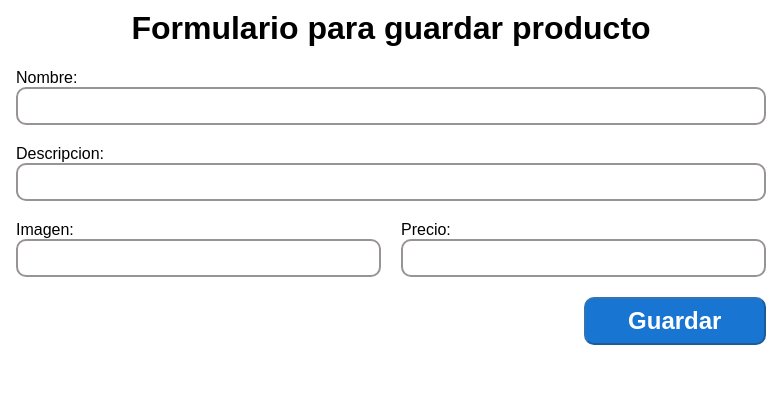
Test case: Home › should save product information
The image size is (783, 396).
Type "lata de merluzo" into the field labelled "Nombre:" at (391, 106), box [16,87,766,125]
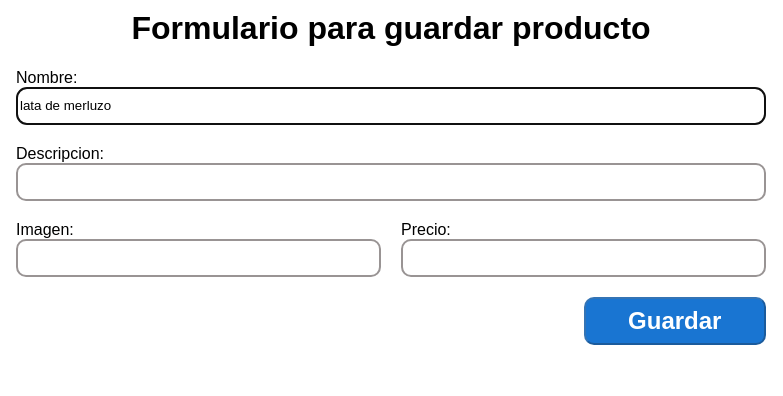
Type "descripcion" into the field labelled "Descripcion:" at (391, 182), box [16,163,766,201]
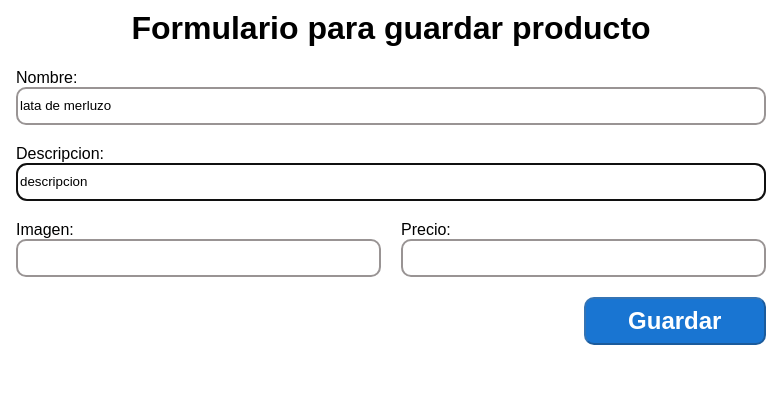
Type "www.lider.cl/catalogo/images/whiteLineIcon.svg" into the field labelled "Imagen:" at (198, 258), box [16,239,381,277]
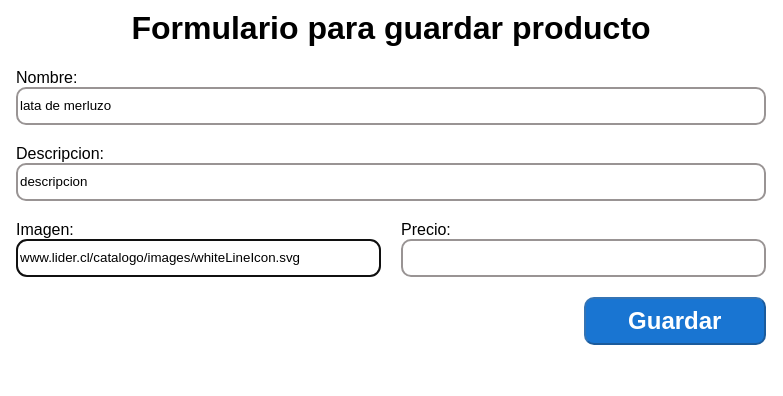
Type "1111" into the field labelled "Precio:" at (584, 258), box [401,239,766,277]
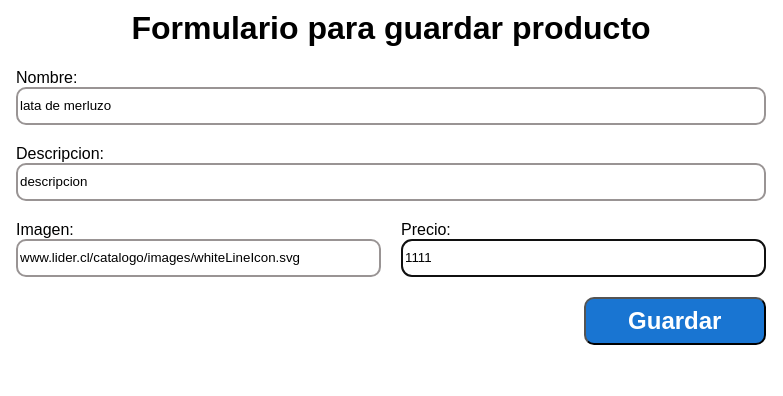
Click the button "Guardar" at (675, 321), box [584,297,766,345]
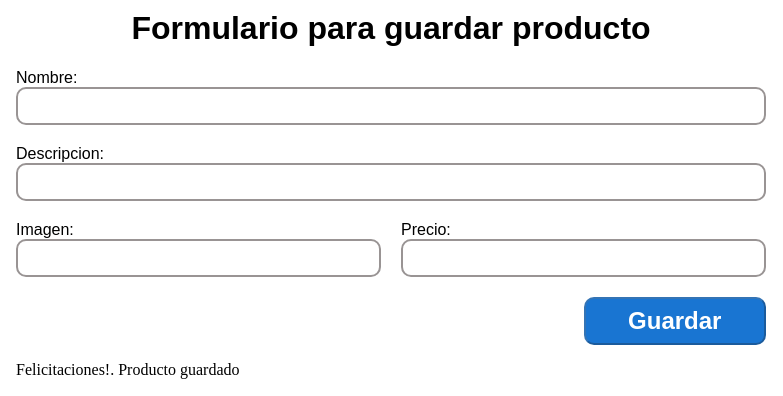
Result: the field labelled "Precio:" is empty at [401,239,766,277]
Result: the text "Felicitaciones!. Producto guardado" is shown at [16,361,240,378]
